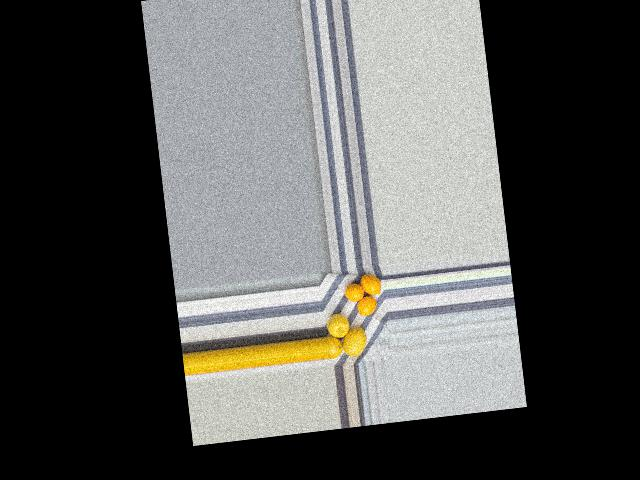lemon: (325, 335, 345, 362)
